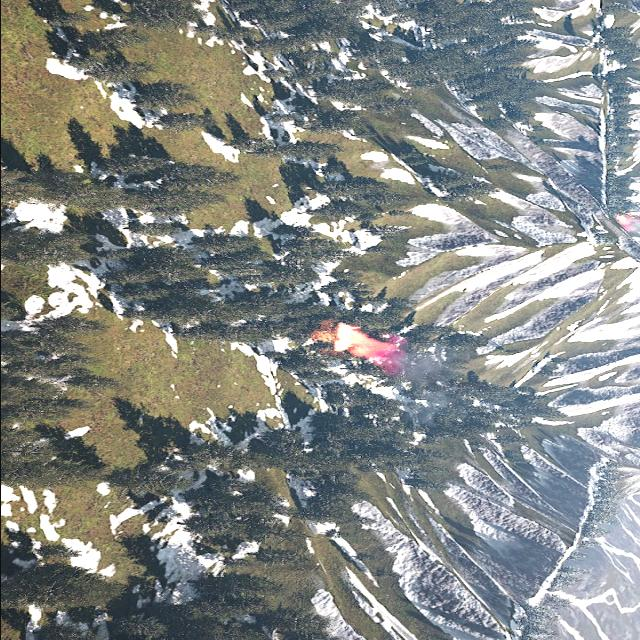fire: (331, 324, 386, 358), (616, 215, 632, 228)
smoke: (373, 335, 457, 420)
